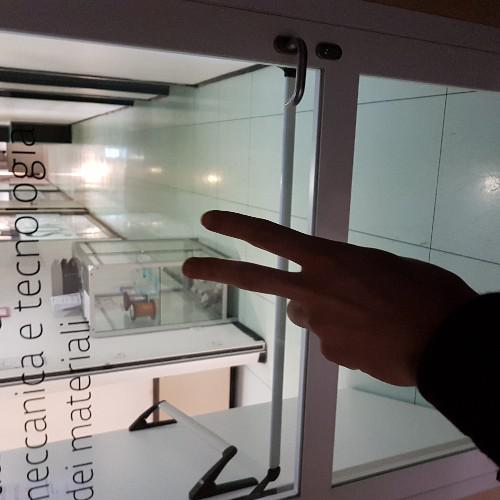scissors: (177, 198, 463, 393)
